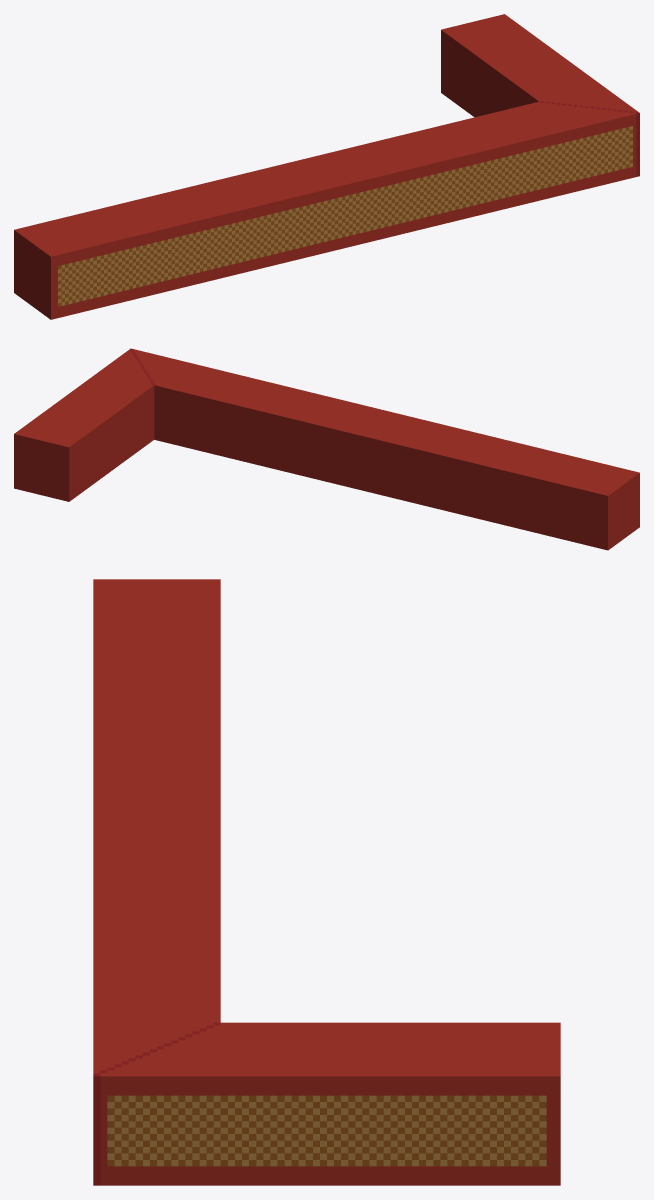
File: Barra.obj
3 renders of one model, top to bottom at view 1: azimuth 30°, elevation 25°; view 2: azimuth 150°, elevation 25°; view 3: azimuth 270°, elevation 25°, orthographic. The views are drawn at different scales.
Size of the model in its own units: 16.6 by 1.7 by 6.6.
1 material, 1 textured.
